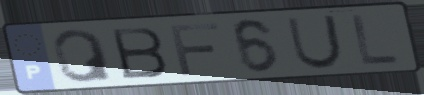6: (231, 17, 282, 76)
B: (107, 25, 171, 81)
F: (166, 20, 224, 78)
L: (349, 11, 402, 67)
Q: (50, 27, 118, 85)
U: (283, 13, 346, 71)
